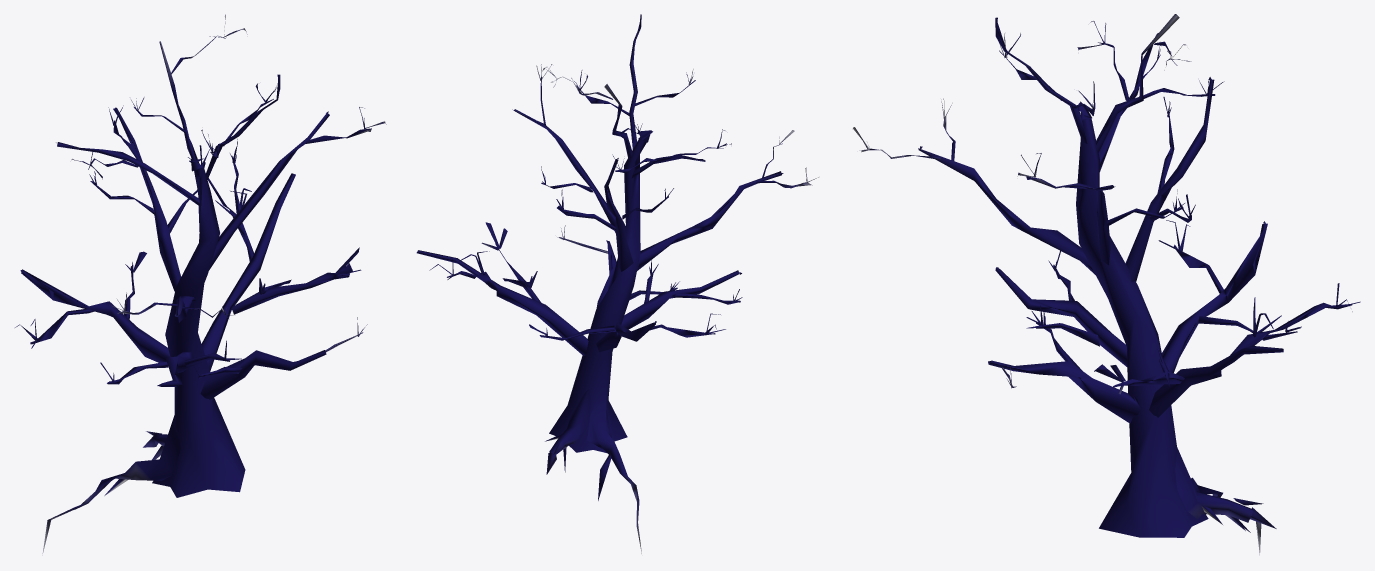
The model's file is BigTreeLow.obj.
3 renders of one model, left to right at view 1: azimuth 30°, elevation 25°; view 2: azimuth 150°, elevation 25°; view 3: azimuth 270°, elevation 25°, orthographic. The views are drawn at different scales.
Parts seen in each view (by area): view 1: TreeLois.001; view 2: TreeLois.001; view 3: TreeLois.001.
Boxes of the visible parts, x1,y1,x2,y2 form: TreeLois.001: [15, 14, 386, 555]; TreeLois.001: [416, 14, 818, 553]; TreeLois.001: [853, 14, 1360, 555].
Bounding box in the file's own units: 8.92 × 13.64 × 10.42.
